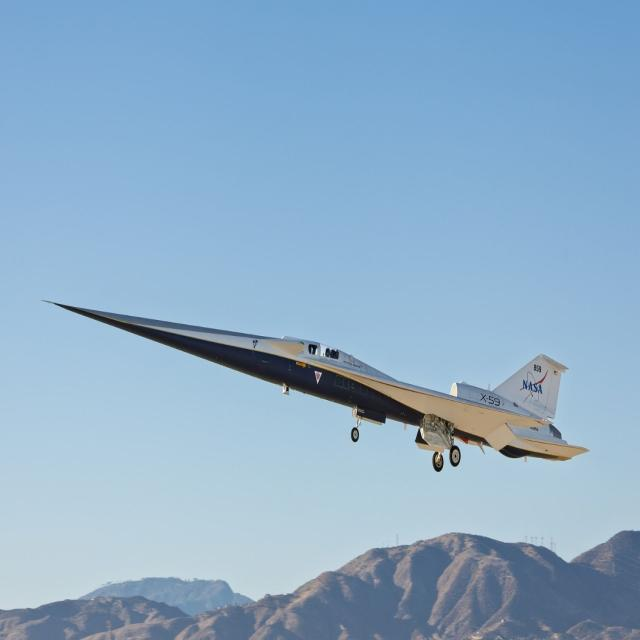aircraft: (47, 245, 610, 538)
